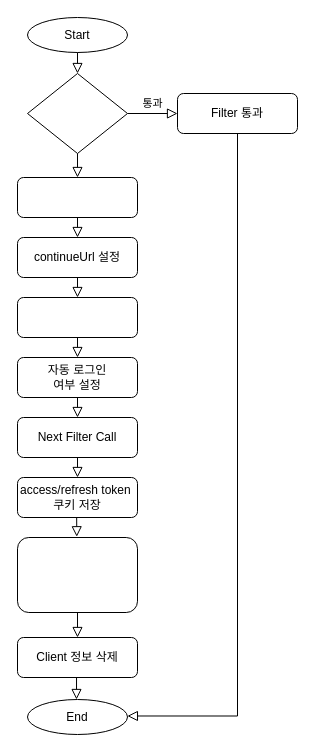
Some shapes in this 315 by 752 pixel diagram are drawn without their labels. Each missing label, with the centre of its shape:
Client 정보 저장 객체 생성&초기화: pixel 77 197
kyobo-status 설정: pixel 77 317
URL 검증 (css, js): pixel 77 113
쿠키 처리 (추가/삭제, kyobo-status 쿠키 처리/추가 ): pixel 77 574
